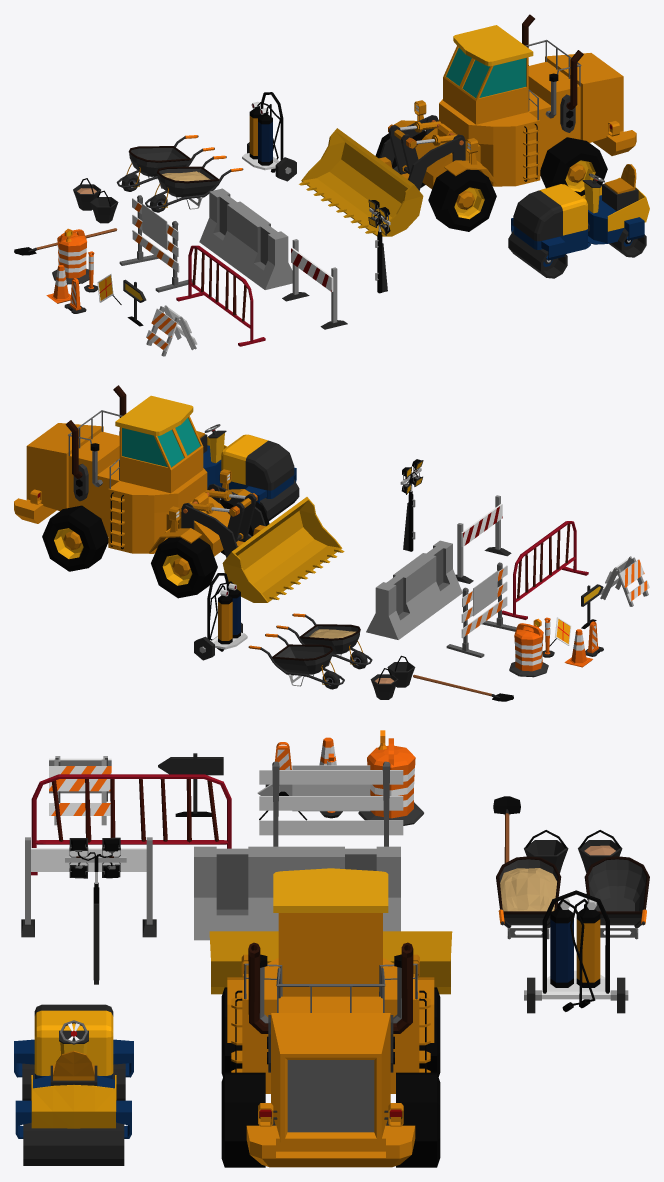
File: construction_tools__equipment.glb
The picture shows the model from 3 angles, top to bottom: view 1: azimuth 30°, elevation 25°; view 2: azimuth 150°, elevation 25°; view 3: azimuth 270°, elevation 25°; orthographic projection. The views are drawn at different scales.
Parts seen in each view (by area): view 1: Loader_18, Roller_19, Road Closed-04_14, Oxygen Capsule_13, Road Closed-01_7, WheelBarrow-01_0, Road Closed-02_8, WheelBarrow-02_1, Road Closed-03_15, D-4_3, Sign-03_9, Projector_6 (+3 smaller); view 2: Loader_18, Roller_19, Road Closed-04_14, Oxygen Capsule_13, Road Closed-01_7, WheelBarrow-02_1, Road Closed-02_8, WheelBarrow-01_0, D-4_3, Road Closed-03_15, Sign-03_9, Projector_6 (+3 smaller); view 3: Loader_18, Roller_19, Road Closed-04_14, Road Closed-01_7, Oxygen Capsule_13, Road Closed-02_8, WheelBarrow-01_0, WheelBarrow-02_1, Road Closed-03_15, Sign-03_9, D-4_3, Projector_6 (+4 smaller).
Boxes of the visible parts, bbox=[...] form: Loader_18: bbox=[299, 14, 636, 236]; Roller_19: bbox=[508, 164, 649, 278]; Road Closed-04_14: bbox=[199, 188, 292, 289]; Oxygen Capsule_13: bbox=[242, 92, 296, 181]; Road Closed-01_7: bbox=[119, 195, 192, 292]; WheelBarrow-01_0: bbox=[145, 155, 243, 212]; Road Closed-02_8: bbox=[176, 245, 265, 346]; WheelBarrow-02_1: bbox=[116, 135, 214, 191]; Road Closed-03_15: bbox=[282, 239, 347, 329]; D-4_3: bbox=[52, 228, 89, 284]; Sign-03_9: bbox=[146, 305, 197, 356]; Projector_6: bbox=[368, 199, 390, 293]; Loader_18: bbox=[14, 385, 344, 602]; Roller_19: bbox=[196, 424, 299, 521]; Road Closed-04_14: bbox=[366, 540, 462, 639]; Oxygen Capsule_13: bbox=[194, 573, 247, 660]; Road Closed-01_7: bbox=[446, 562, 516, 657]; WheelBarrow-02_1: bbox=[248, 633, 344, 689]; Road Closed-02_8: bbox=[502, 521, 588, 619]; WheelBarrow-01_0: bbox=[276, 613, 372, 669]; D-4_3: bbox=[509, 618, 548, 677]; Road Closed-03_15: bbox=[455, 495, 511, 583]; Sign-03_9: bbox=[600, 556, 649, 606]; Projector_6: bbox=[400, 459, 423, 551]; Loader_18: bbox=[209, 868, 452, 1167]; Roller_19: bbox=[14, 1004, 133, 1165]; Road Closed-04_14: bbox=[194, 846, 400, 940]; Road Closed-01_7: bbox=[259, 761, 403, 846]; Oxygen Capsule_13: bbox=[524, 890, 628, 1013]; Road Closed-02_8: bbox=[31, 774, 231, 875]; WheelBarrow-01_0: bbox=[496, 856, 561, 939]; WheelBarrow-02_1: bbox=[584, 856, 649, 939]; Road Closed-03_15: bbox=[21, 837, 156, 937]; Sign-03_9: bbox=[49, 756, 111, 825]; D-4_3: bbox=[358, 730, 423, 825]; Projector_6: bbox=[65, 837, 126, 984].
Size of the model in its own units: 12.89 by 3.37 by 7.99.
Materials: 1 (1 with a texture image).
